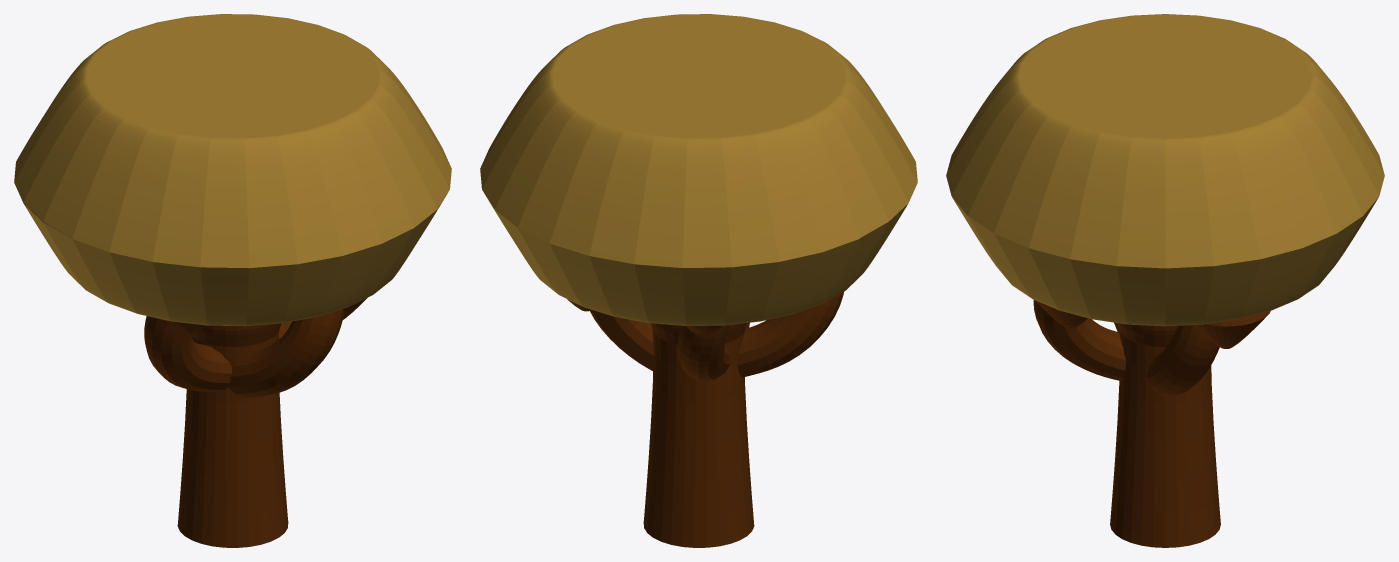
The model's file is trees1.fbx.
3 views of the same model, side by side, from view 1: azimuth 30°, elevation 25°; view 2: azimuth 150°, elevation 25°; view 3: azimuth 270°, elevation 25° (orthographic).
Parts seen in each view (by area): view 1: imagetostl_mesh0; view 2: imagetostl_mesh0; view 3: imagetostl_mesh0.
Part boxes in pixels (x1,y1,x2,y2): imagetostl_mesh0: (14, 14, 451, 547); imagetostl_mesh0: (480, 14, 917, 547); imagetostl_mesh0: (946, 14, 1384, 547).
Size of the model in its own units: 201 by 226 by 201.
